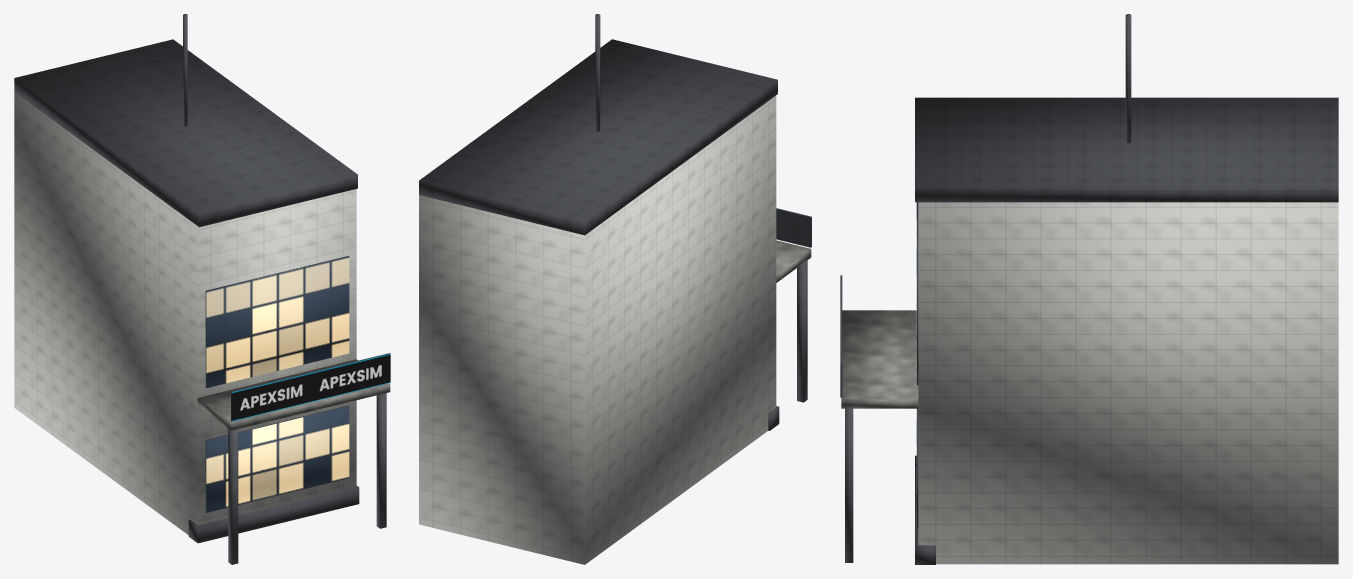
Rendered from garage_end.glb.
3 renders of one model, left to right at view 1: azimuth 30°, elevation 25°; view 2: azimuth 150°, elevation 25°; view 3: azimuth 270°, elevation 25°, orthographic. The views are drawn at different scales.
Visible parts, largest first — view 1: garage_end; view 2: garage_end; view 3: garage_end.
Part boxes in pixels (x1=…): garage_end: x1=14, y1=14, x2=390, y2=564; garage_end: x1=419, y1=14, x2=811, y2=564; garage_end: x1=840, y1=14, x2=1338, y2=564.
Bounding box in the file's own units: 6.1 × 15.9 × 14.23.
Materials: 6 (5 with a texture image).
